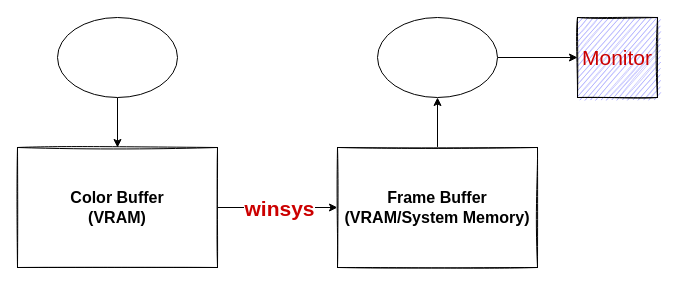
The diagram is 675 pixels wide and 285 high, and some of its shapes have lost their labels. Here are the shapes that lost their labels. From the top down, the centre of each, then its label:
the point at 117,57: GPU
the point at 437,57: Display Controller
